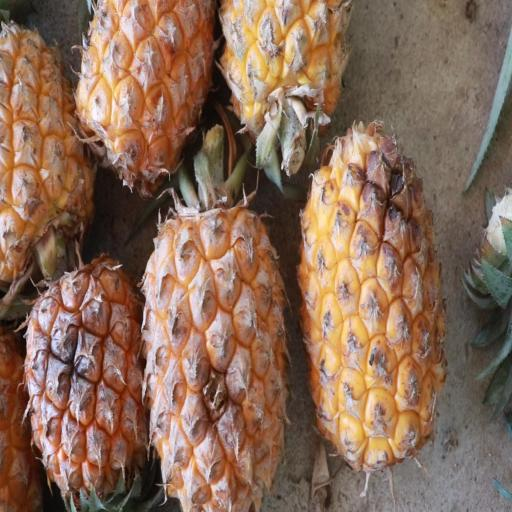Pineapple - v8 v1: (296, 109, 447, 468), (138, 164, 289, 512), (21, 243, 150, 512), (0, 0, 99, 287), (72, 0, 218, 188), (219, 1, 353, 178)
